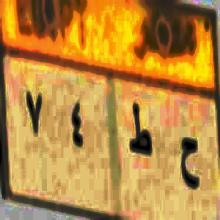4: (71, 99, 84, 149)
7: (22, 83, 44, 140)
7aa: (179, 131, 200, 192)
Taa: (127, 99, 153, 164)
